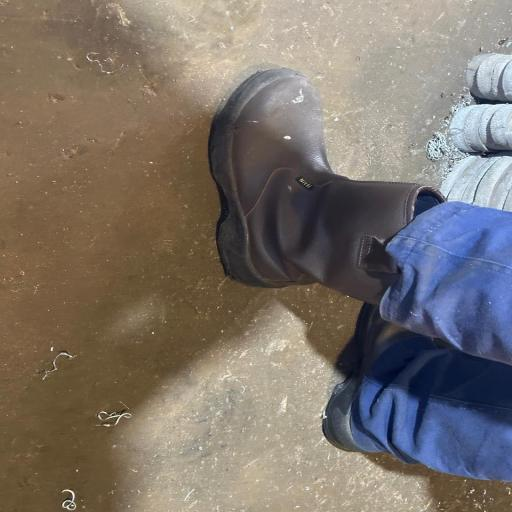safety_shoe: (214, 50, 436, 308)
